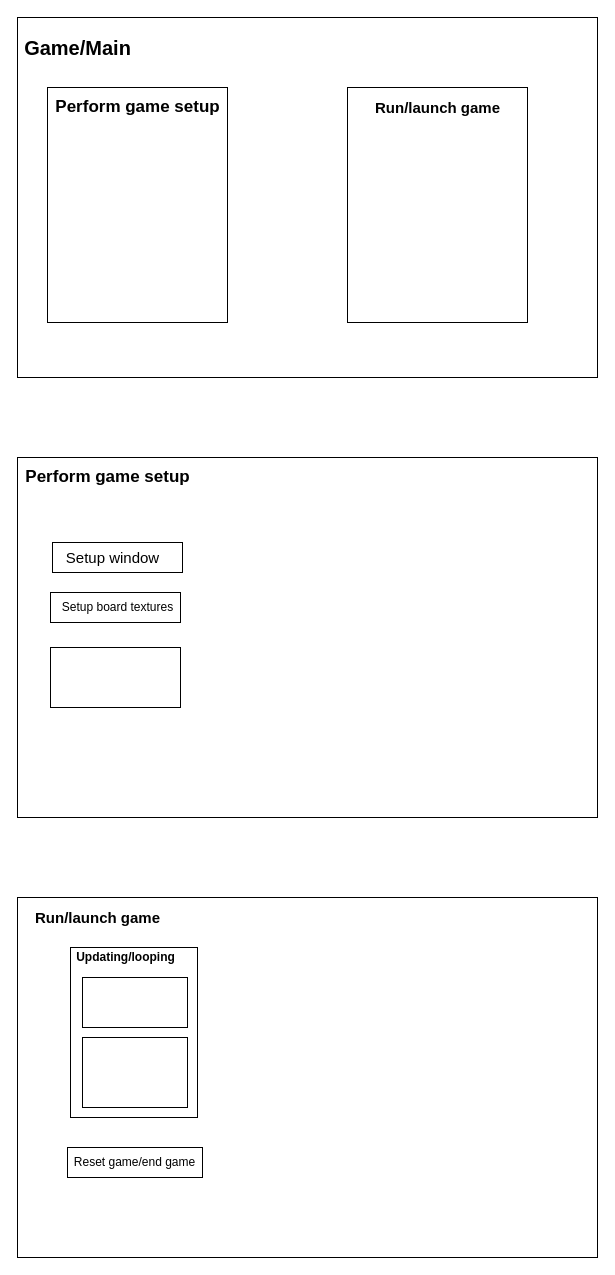
Some shapes in this 615 by 1275 pixel diagram are drawn without their labels. Here are the shapes that lost their labels. From the top down, the centre of each, then its label:
point (115, 677): Setup datas : -pieces position -scores ...
point (135, 1002): Game status : -who gotta play -pieces position
point (135, 1072): Action on event : -click on a piece -click on a square -click on the dice
